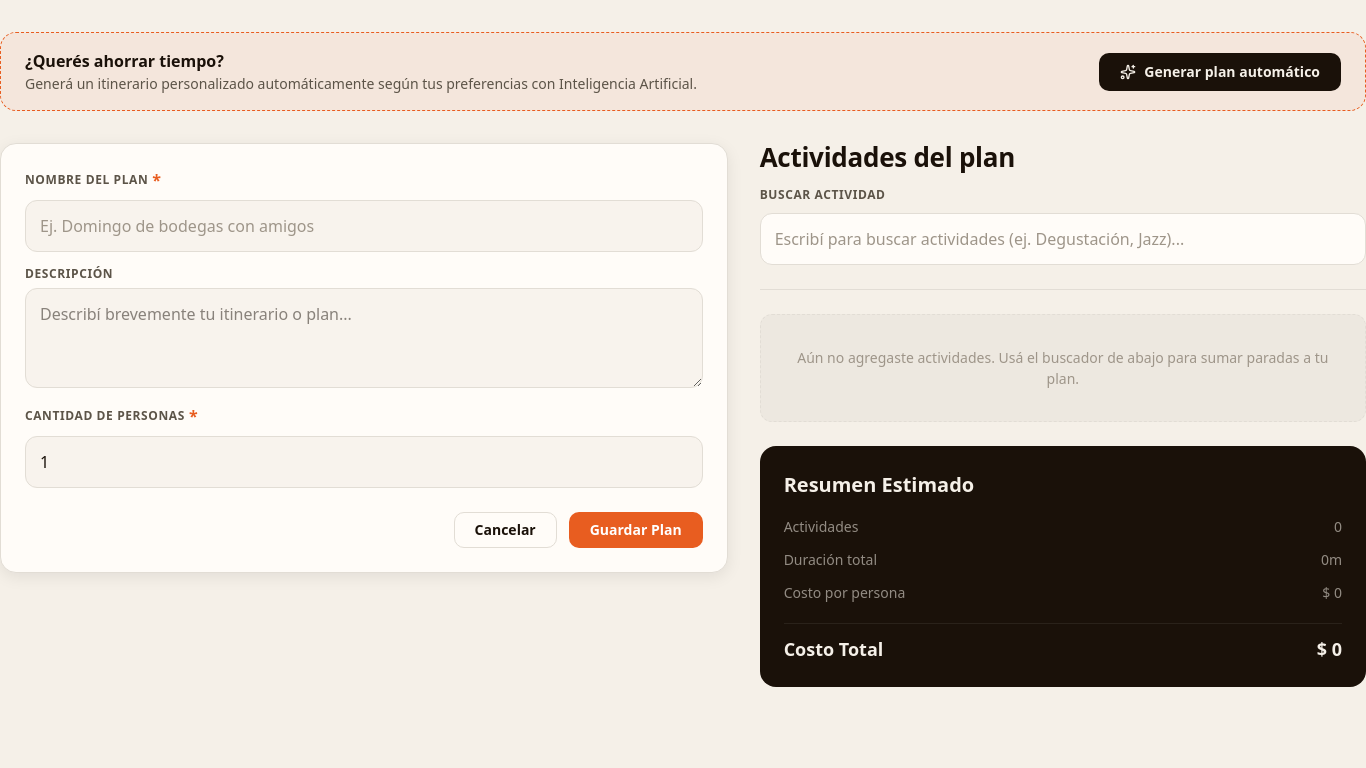
CreatePlanForm (CU24) › warns before discarding a form with data in it
In the field labelled "Nombre del plan": (364, 226) [25,200,703,252], type "Domingo"
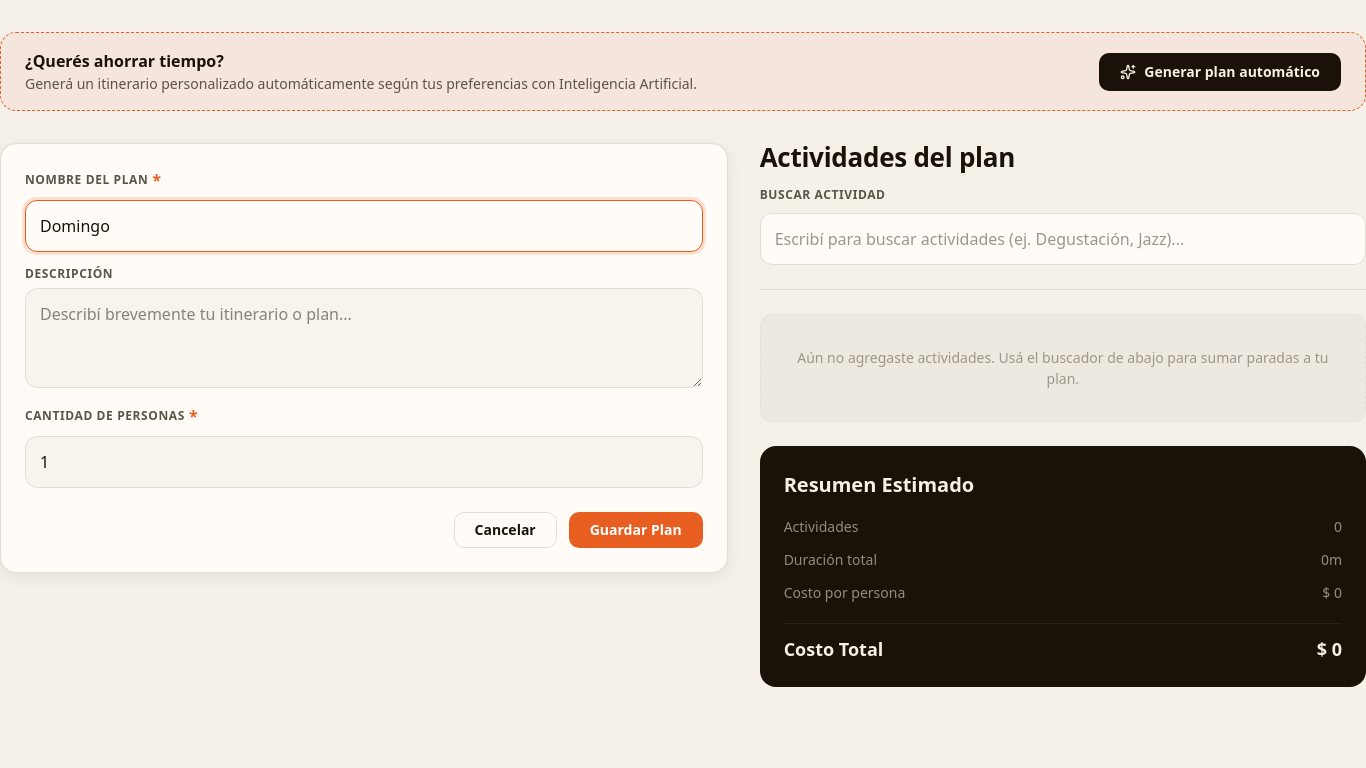
Click the button "Cancelar": (505, 530) [454,512,557,548]
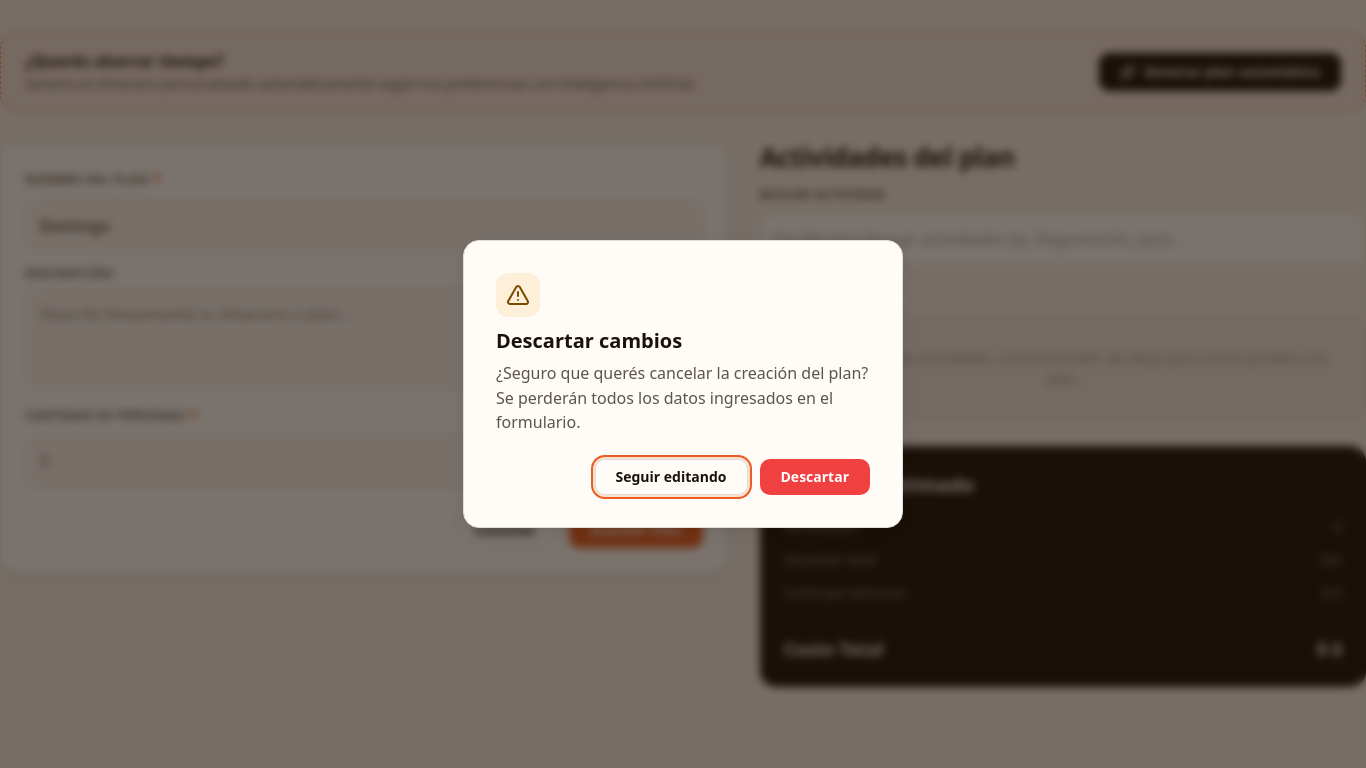
expect the dialog is shown: met, box [463,240,903,528]
expect the heading "Descartar cambios" is shown: met, box [496,327,682,354]
